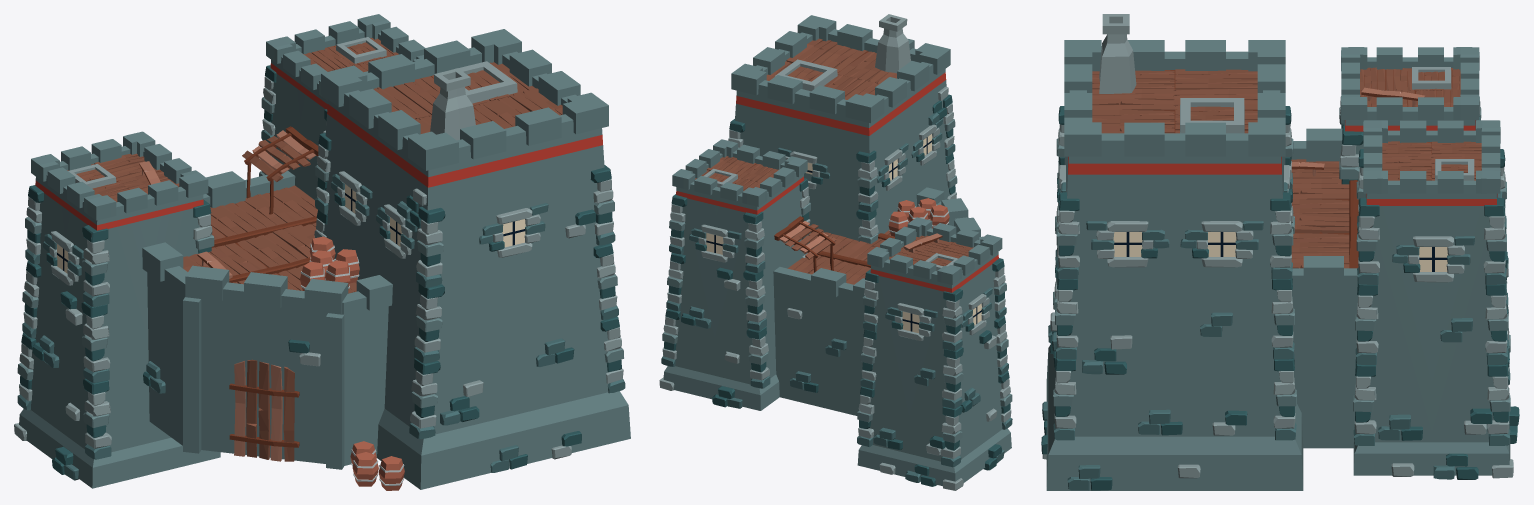
File: SM_Castle_new.fbx
3 renders of one model, left to right at view 1: azimuth 30°, elevation 25°; view 2: azimuth 150°, elevation 25°; view 3: azimuth 270°, elevation 25°, orthographic. The views are drawn at different scales.
Parts seen in each view (by area): view 1: SM_Castle_LOD0; view 2: SM_Castle_LOD0; view 3: SM_Castle_LOD0.
Part boxes in pixels (x1,y1,x2,y2): SM_Castle_LOD0: (14, 14, 630, 490); SM_Castle_LOD0: (659, 14, 1012, 490); SM_Castle_LOD0: (1041, 14, 1519, 490).
Size of what is drawn, in the model's own units: 11.39 by 11.22 by 10.72.
